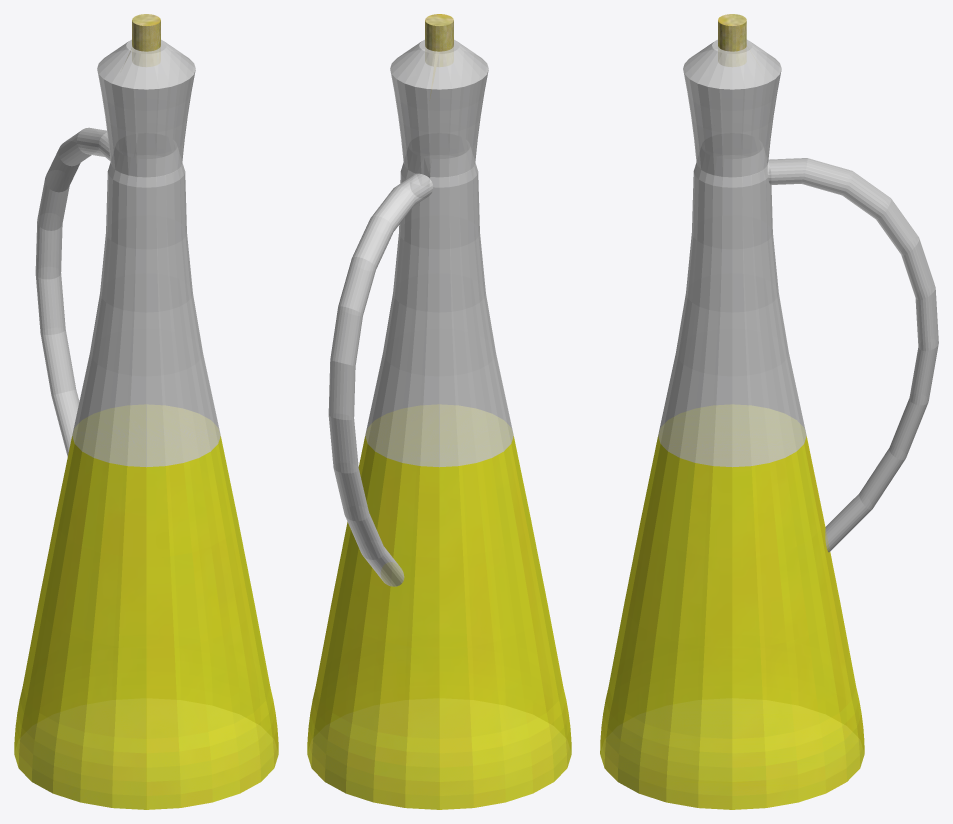
File: oil.dae
3 views of the same model, side by side, from view 1: azimuth 30°, elevation 25°; view 2: azimuth 150°, elevation 25°; view 3: azimuth 270°, elevation 25° (orthographic).
Visible parts, largest first — view 1: SketchUp (×4); view 2: SketchUp (×4); view 3: SketchUp (×4).
Boxes of the visible parts, x1,y1,x2,y2 form: SketchUp (×4): (14, 20, 278, 809); SketchUp (×4): (307, 20, 571, 809); SketchUp (×4): (600, 21, 938, 809).
Size of the model in its own units: 5.75 by 7.37 by 17.6.
3 materials, 2 textured.
